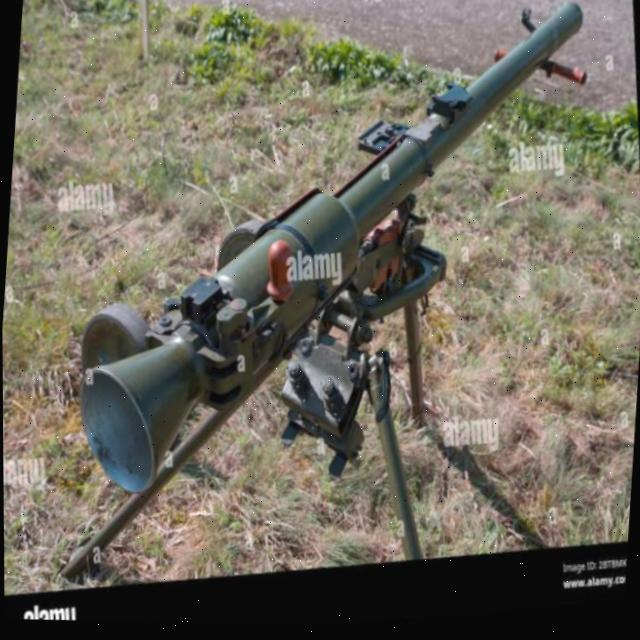rocket: (24, 0, 633, 537)
